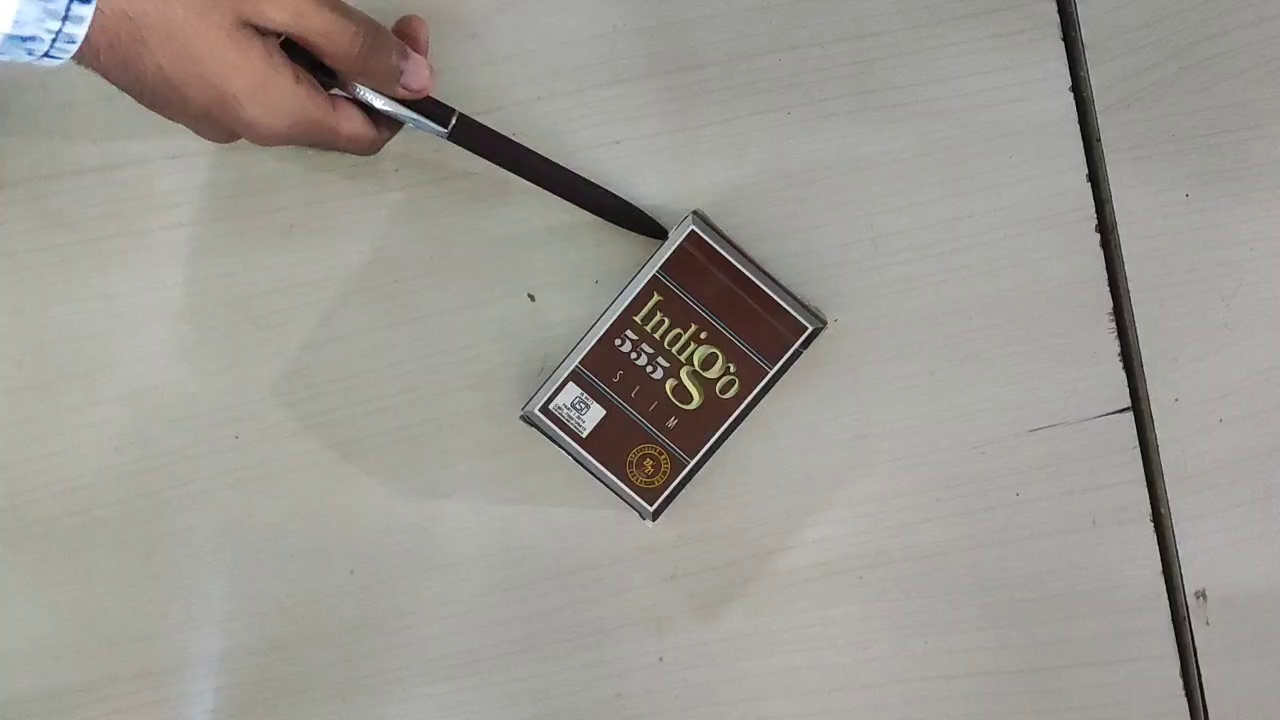BEX: (537, 225, 813, 507)
